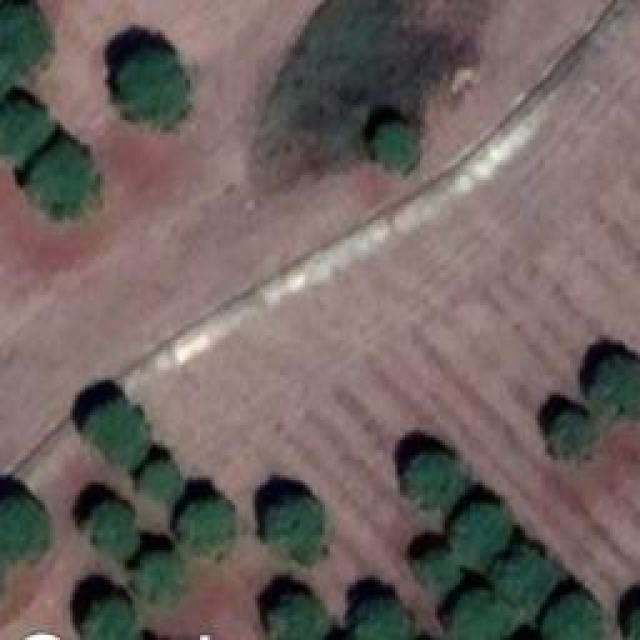Tree: (118, 50, 188, 130), (25, 140, 95, 218), (498, 548, 568, 621), (82, 400, 150, 470), (0, 3, 50, 93), (0, 473, 48, 566), (265, 495, 323, 568), (450, 505, 513, 570), (78, 500, 141, 563), (585, 355, 640, 418), (408, 455, 471, 508), (0, 97, 52, 160), (448, 590, 513, 640), (178, 500, 233, 558), (265, 592, 328, 640), (543, 595, 603, 640), (135, 550, 185, 603), (543, 410, 596, 460), (412, 545, 460, 595), (82, 597, 137, 640), (355, 597, 410, 640), (373, 123, 416, 168), (138, 460, 178, 505)
